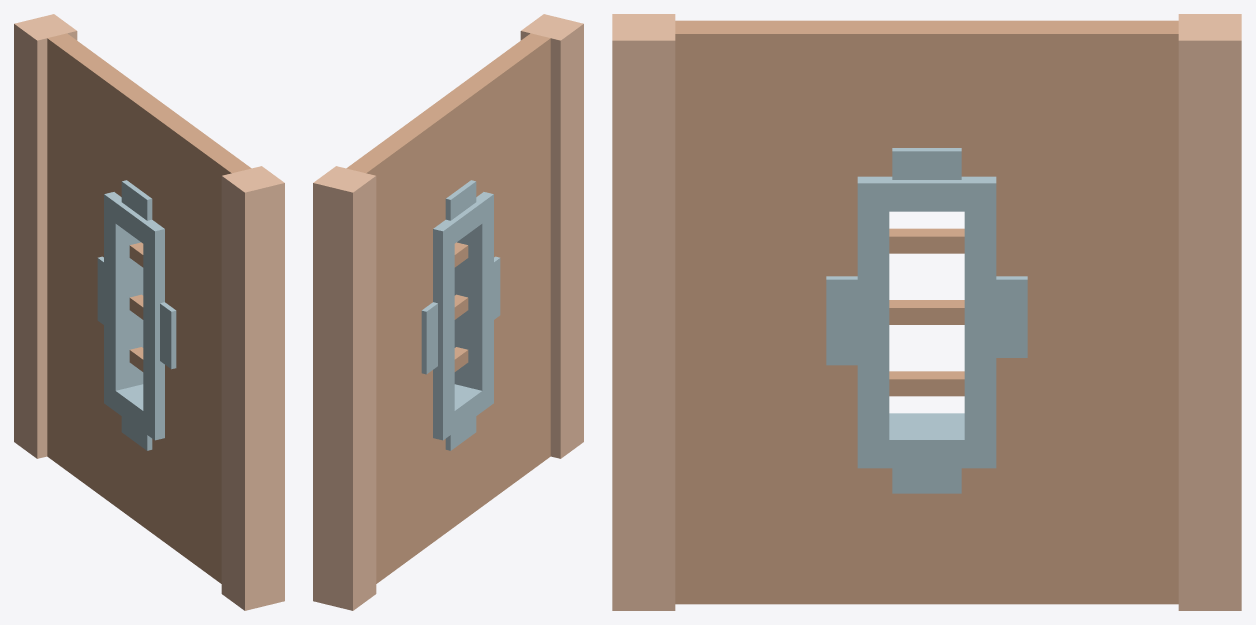
3 views of the same model, side by side, from view 1: azimuth 30°, elevation 25°; view 2: azimuth 150°, elevation 25°; view 3: azimuth 270°, elevation 25° (orthographic). The views are drawn at different scales.
Parts seen in each view (by area): view 1: wallWoodWindowStone; view 2: wallWoodWindowStone; view 3: wallWoodWindowStone.
Part boxes in pixels (bbox=[...]): wallWoodWindowStone: bbox=[14, 14, 284, 610]; wallWoodWindowStone: bbox=[313, 14, 583, 610]; wallWoodWindowStone: bbox=[612, 14, 1241, 610].
Bounding box in the file's own units: 0.1 × 1 × 1.
